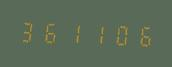one: (84, 19, 105, 47), (62, 19, 83, 46)
six: (39, 18, 60, 46), (128, 21, 149, 49)
three: (17, 17, 38, 45)
zero: (106, 20, 127, 48)
